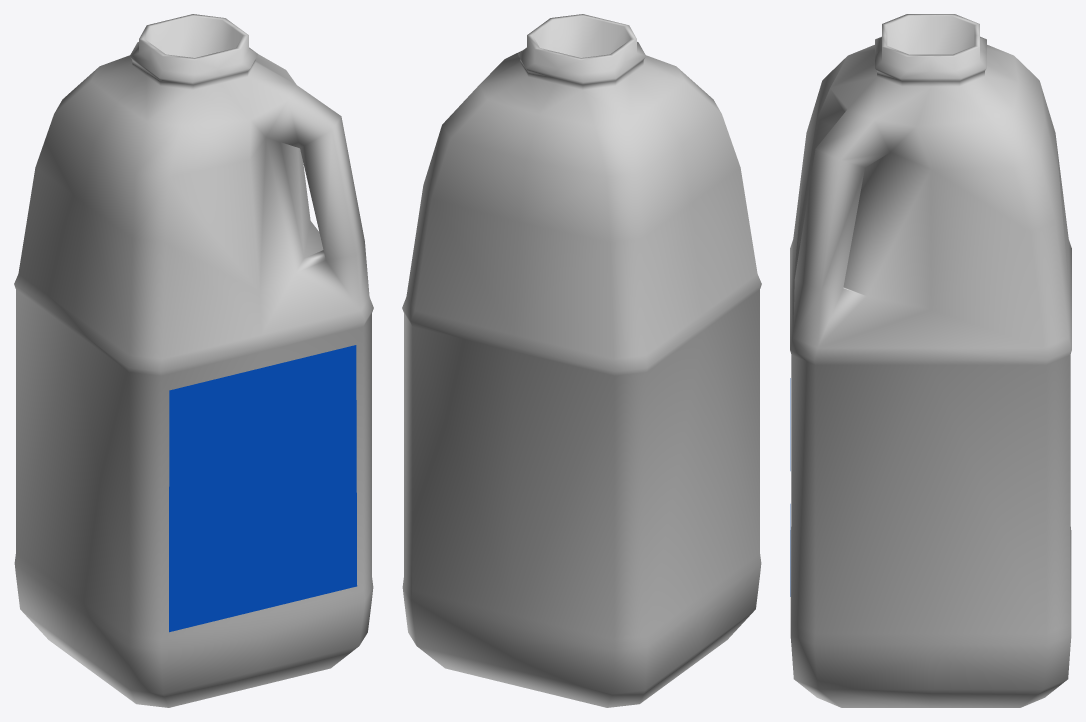
Rendered from MilkCarton.fbx.
3 renders of one model, left to right at view 1: azimuth 30°, elevation 25°; view 2: azimuth 150°, elevation 25°; view 3: azimuth 270°, elevation 25°, orthographic.
Parts seen in each view (by area): view 1: Carton; view 2: Carton; view 3: Carton.
Boxes of the visible parts, x1=… form: Carton: x1=14, y1=14, x2=373, y2=707; Carton: x1=402, y1=14, x2=761, y2=707; Carton: x1=790, y1=14, x2=1071, y2=707.
Bounding box in the file's own units: 9.66 × 22.94 × 9.42.
